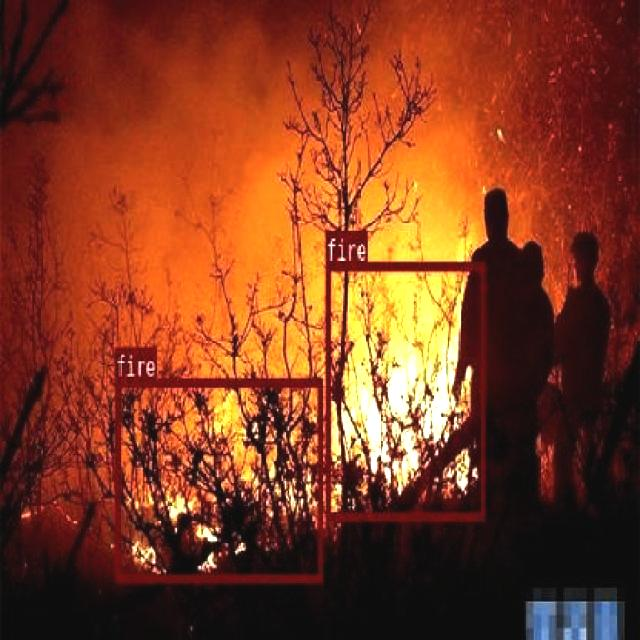fire: (114, 377, 322, 580), (324, 262, 484, 518)
